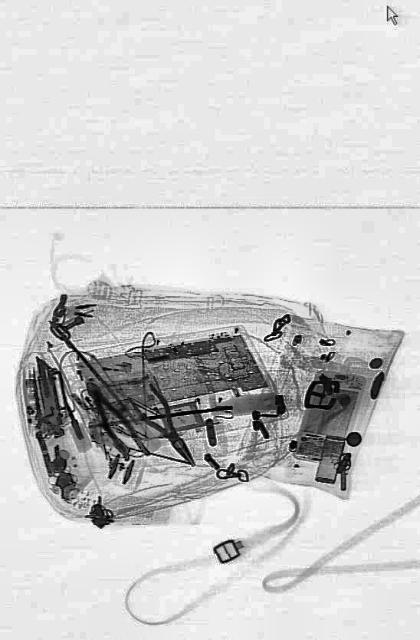Pliers: (124, 370, 204, 478), (78, 371, 150, 474)
